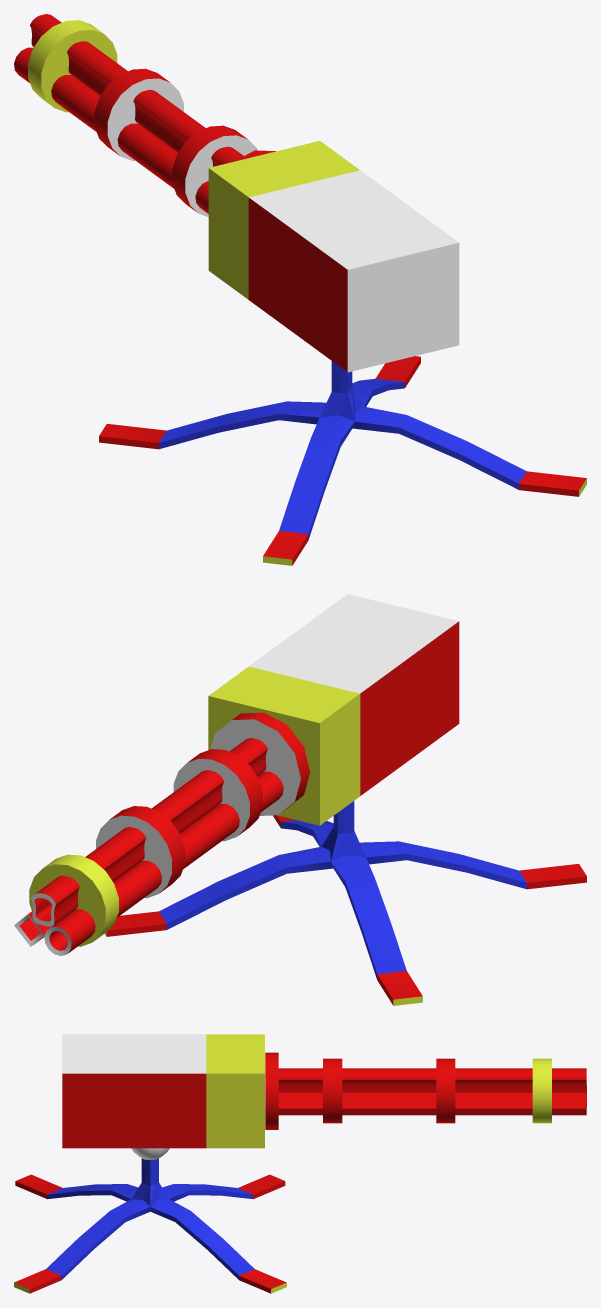
Rendered from Max_Gun_Demo_Texture.FBX.
3 renders of one model, top to bottom at view 1: azimuth 30°, elevation 25°; view 2: azimuth 150°, elevation 25°; view 3: azimuth 270°, elevation 25°, orthographic. The views are drawn at different scales.
Visible parts, largest first — view 1: Gear Box, Barrel, MG Stand; view 2: Gear Box, Barrel, MG Stand; view 3: Gear Box, Barrel, MG Stand.
Boxes of the visible parts, box(x1,y1,x2,y2) form: Gear Box: box(208, 141, 459, 372); Barrel: box(14, 14, 275, 216); MG Stand: box(99, 356, 586, 565); Gear Box: box(208, 594, 459, 825); Barrel: box(14, 712, 310, 955); MG Stand: box(105, 801, 586, 1005); Gear Box: box(62, 1034, 264, 1148); Barrel: box(265, 1052, 586, 1129); MG Stand: box(14, 1158, 286, 1293).
Bounding box in the file's own units: 74.63 × 158 × 55.41.
1 material, 1 textured.
